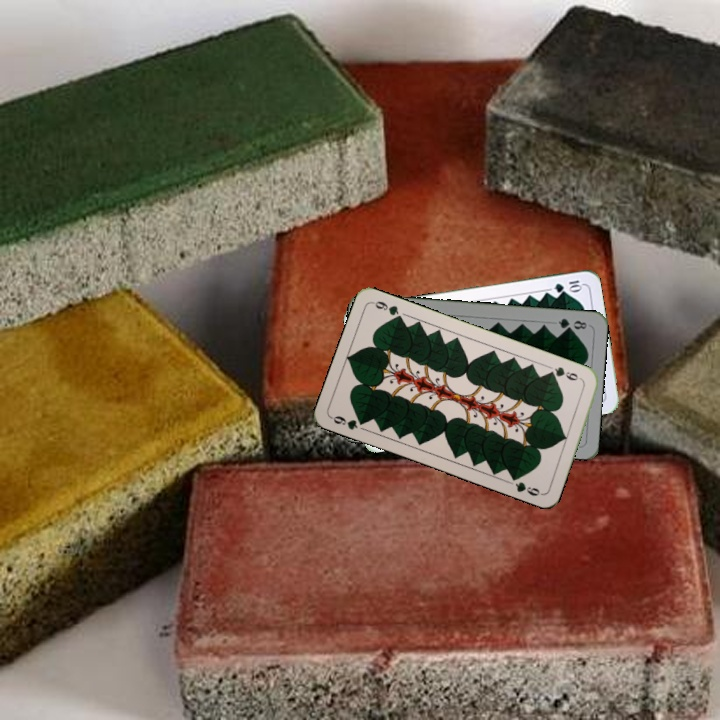G10: (550, 276, 584, 295)
G8: (554, 314, 589, 333)
G9: (544, 362, 585, 383), (327, 412, 369, 432)
